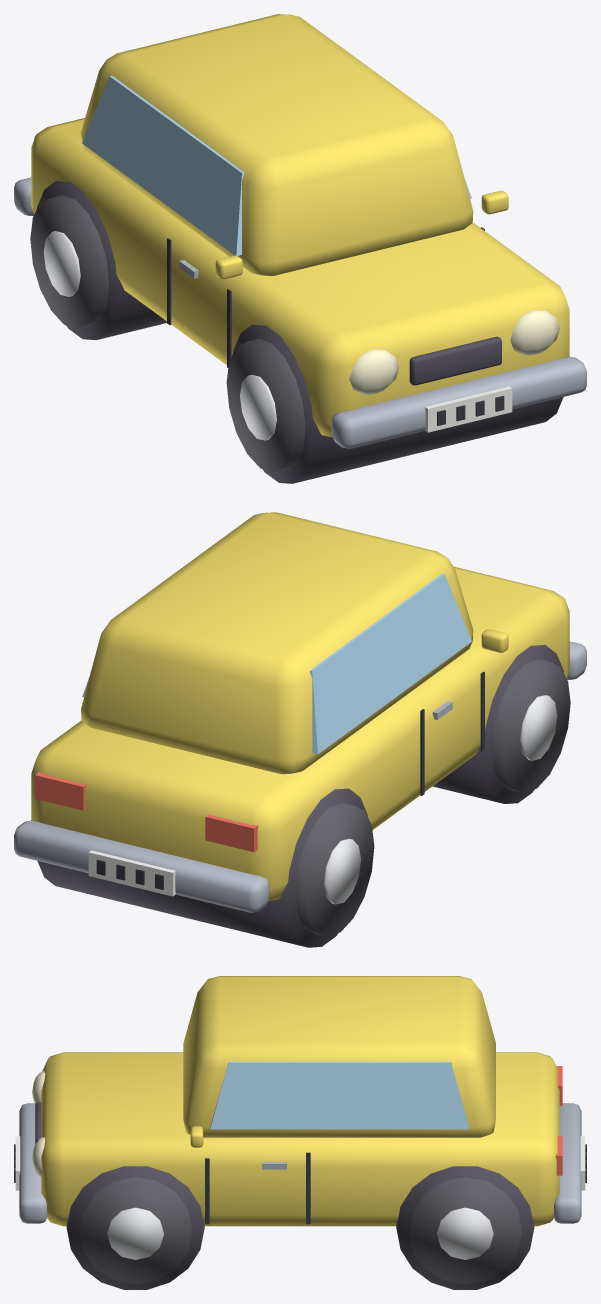
Rendered from Car_Kancil.fbx.
The picture shows the model from 3 angles, top to bottom: view 1: azimuth 30°, elevation 25°; view 2: azimuth 150°, elevation 25°; view 3: azimuth 270°, elevation 25°; orthographic projection. The views are drawn at different scales.
Parts seen in each view (by area): view 1: Body, Wheel_RL, Wheel_FL; view 2: Body, Wheel_RL, Wheel_FL; view 3: Body, Wheel_FR, Wheel_RR.
Boxes of the visible parts, x1,y1,x2,y2 form: Body: (14,14,586,483); Wheel_RL: (30,195,109,329); Wheel_FL: (226,338,305,472); Body: (14,512,586,947); Wheel_RL: (295,802,374,936); Wheel_FL: (491,659,570,793); Body: (14,976,586,1289); Wheel_FR: (79,1177,192,1284); Wheel_RR: (408,1177,521,1284).
Bounding box in the file's own units: 1.78 × 1.6 × 3.65.
